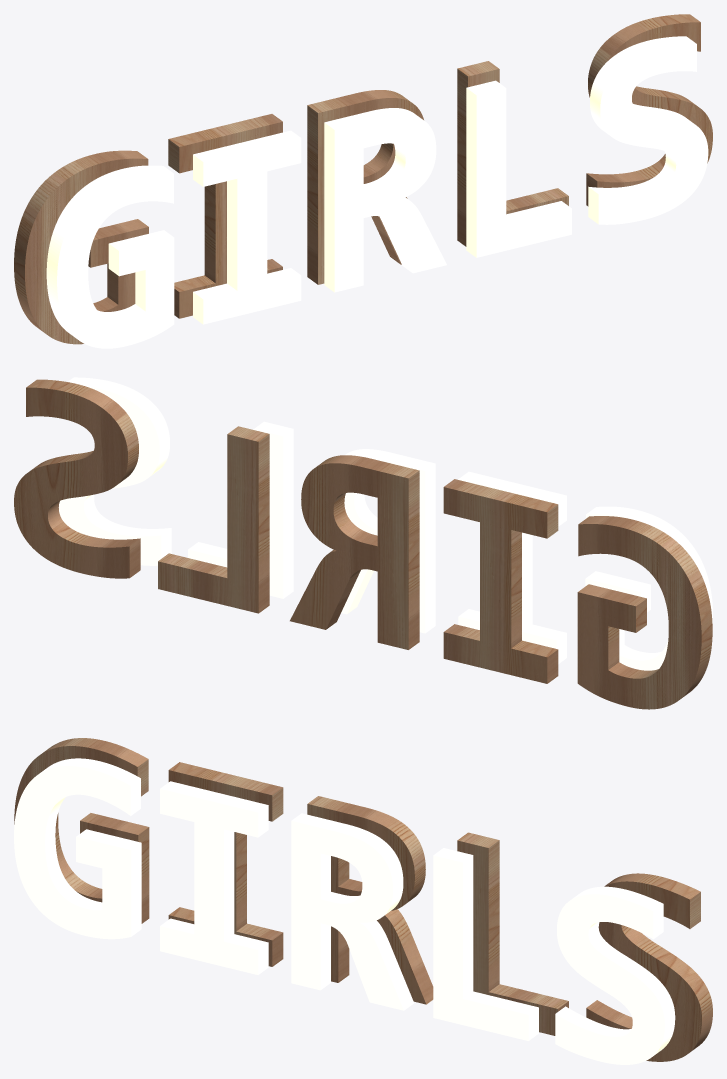
The model's file is girl.glb.
The picture shows the model from 3 angles, top to bottom: view 1: azimuth 30°, elevation 25°; view 2: azimuth 150°, elevation 25°; view 3: azimuth 330°, elevation 25°; orthographic projection.
Parts seen in each view (by area): view 1: GIRLS.001, GIRLS; view 2: GIRLS, GIRLS.001; view 3: GIRLS.001, GIRLS.
Part boxes in pixels (x1,y1,x2,y2): GIRLS.001: (46, 36, 708, 348); GIRLS: (14, 14, 712, 344); GIRLS: (14, 379, 712, 709); GIRLS.001: (58, 377, 712, 670); GIRLS.001: (14, 758, 675, 1064); GIRLS: (14, 738, 712, 1061).
Bounding box in the file's own units: 2.77 × 0.6836 × 0.1895.
2 materials, 2 textured.
